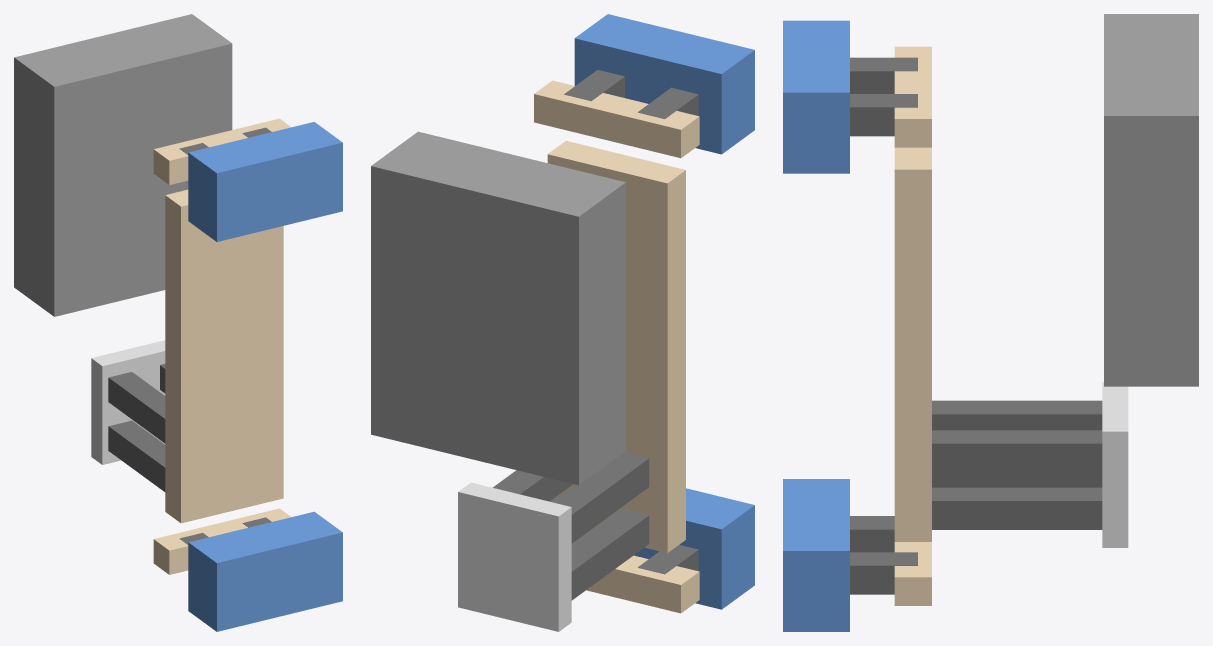
Rendered from sky130_fd_sc_hd__diode_2.gds.gltf.
The picture shows the model from 3 angles, left to right: view 1: azimuth 30°, elevation 25°; view 2: azimuth 150°, elevation 25°; view 3: azimuth 270°, elevation 25°; orthographic projection. The views are drawn at different scales.
Visible parts, largest first — view 1: sky130_fd_sc_hd__diode_2_nwell, sky130_fd_sc_hd__diode_2_li1, sky130_fd_sc_hd__diode_2_met1, sky130_fd_sc_hd__diode_2_licon, sky130_fd_sc_hd__diode_2_diff, sky130_fd_sc_hd__diode_2_mcon; view 2: sky130_fd_sc_hd__diode_2_nwell, sky130_fd_sc_hd__diode_2_li1, sky130_fd_sc_hd__diode_2_met1, sky130_fd_sc_hd__diode_2_diff, sky130_fd_sc_hd__diode_2_licon, sky130_fd_sc_hd__diode_2_mcon; view 3: sky130_fd_sc_hd__diode_2_nwell, sky130_fd_sc_hd__diode_2_licon, sky130_fd_sc_hd__diode_2_met1, sky130_fd_sc_hd__diode_2_li1, sky130_fd_sc_hd__diode_2_mcon, sky130_fd_sc_hd__diode_2_diff.
Part boxes in pixels (box(x1,y1,x2,y2)): sky130_fd_sc_hd__diode_2_nwell: box(14, 14, 232, 316); sky130_fd_sc_hd__diode_2_li1: box(153, 118, 291, 574); sky130_fd_sc_hd__diode_2_met1: box(188, 122, 342, 631); sky130_fd_sc_hd__diode_2_licon: box(108, 364, 165, 491); sky130_fd_sc_hd__diode_2_diff: box(91, 340, 165, 464); sky130_fd_sc_hd__diode_2_mcon: box(179, 127, 271, 544); sky130_fd_sc_hd__diode_2_nwell: box(371, 131, 625, 485); sky130_fd_sc_hd__diode_2_li1: box(534, 80, 699, 613); sky130_fd_sc_hd__diode_2_met1: box(574, 14, 754, 609); sky130_fd_sc_hd__diode_2_diff: box(458, 482, 571, 631); sky130_fd_sc_hd__diode_2_licon: box(493, 452, 649, 600); sky130_fd_sc_hd__diode_2_mcon: box(564, 69, 698, 574); sky130_fd_sc_hd__diode_2_nwell: box(1104, 14, 1198, 386); sky130_fd_sc_hd__diode_2_licon: box(932, 400, 1102, 529); sky130_fd_sc_hd__diode_2_met1: box(783, 20, 849, 631); sky130_fd_sc_hd__diode_2_li1: box(894, 46, 931, 605); sky130_fd_sc_hd__diode_2_mcon: box(850, 57, 917, 594); sky130_fd_sc_hd__diode_2_diff: box(1102, 382, 1128, 547).
Bounding box in the file's own units: 1.3 × 3.2 × 2.24.
